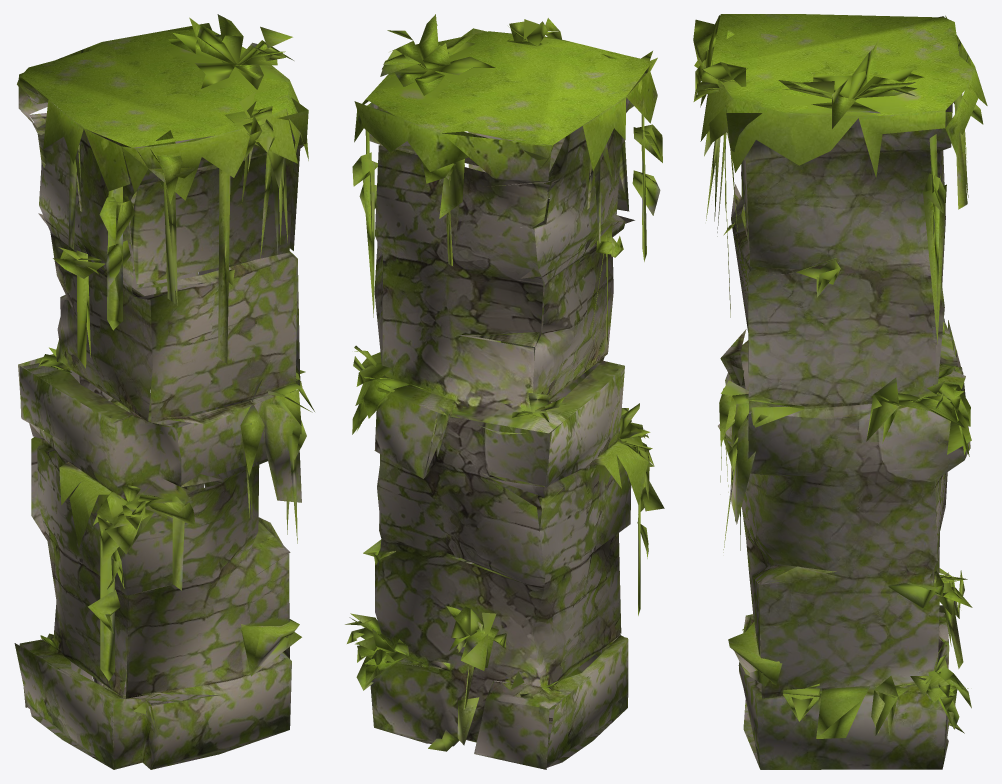
File: Pillar.fbx
3 renders of one model, left to right at view 1: azimuth 30°, elevation 25°; view 2: azimuth 150°, elevation 25°; view 3: azimuth 270°, elevation 25°, orthographic. The views are drawn at different scales.
Visible parts, largest first — view 1: Pillar; view 2: Pillar; view 3: Pillar.
Boxes of the visible parts, bbox=[...] form: Pillar: bbox=[14, 14, 314, 769]; Pillar: bbox=[345, 14, 664, 769]; Pillar: bbox=[693, 14, 987, 769].
Size of the model in its own units: 1.1 by 2.97 by 1.12.
Materials: 1 (1 with a texture image).
